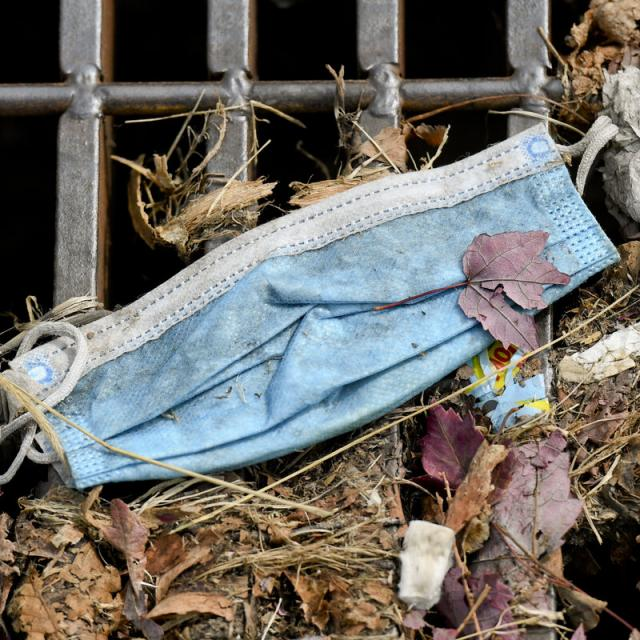non-organic waste: (12, 114, 610, 526)
